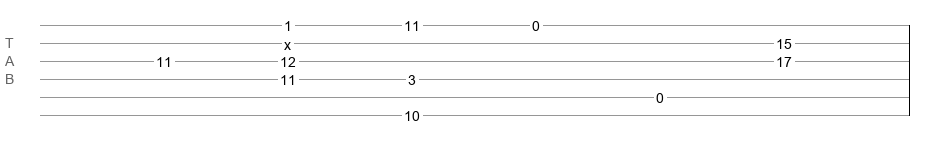0: (532, 18, 540, 28), (656, 90, 664, 100)
1: (284, 18, 292, 28)
10: (404, 108, 420, 118)
11: (156, 54, 172, 64), (280, 72, 296, 82), (404, 18, 420, 28)
12: (280, 54, 296, 64)
15: (776, 36, 792, 46)
17: (776, 54, 792, 64)
3: (408, 72, 416, 82)
x: (284, 37, 291, 45)
